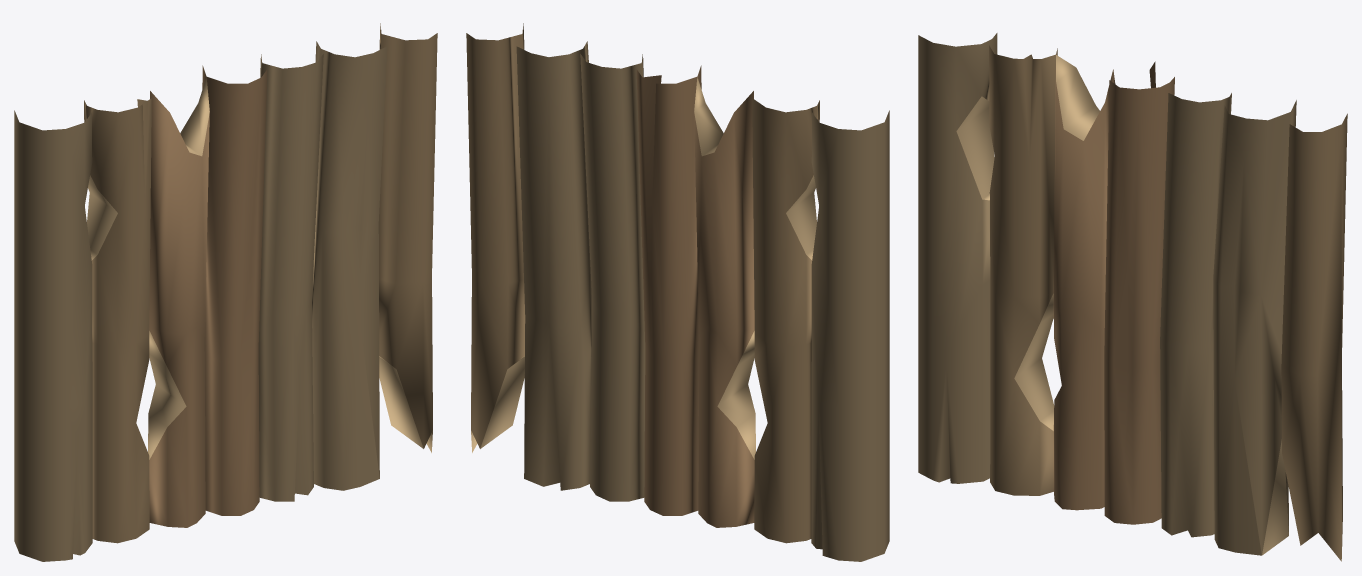
Rendered from rpgpp_av_wall_04_3x3_b.gltf.
The picture shows the model from 3 angles, left to right: view 1: azimuth 30°, elevation 25°; view 2: azimuth 150°, elevation 25°; view 3: azimuth 330°, elevation 25°; orthographic projection.
Parts seen in each view (by area): view 1: rpgpp_av_wall_04_3x3_b; view 2: rpgpp_av_wall_04_3x3_b; view 3: rpgpp_av_wall_04_3x3_b.
Boxes of the visible parts, left/top/right/bottom form: rpgpp_av_wall_04_3x3_b: left=14, top=23, right=437, bottom=561; rpgpp_av_wall_04_3x3_b: left=466, top=23, right=889, bottom=561; rpgpp_av_wall_04_3x3_b: left=918, top=33, right=1347, bottom=561.
Size of the model in its own units: 0.03 by 0.03 by 0.00471.
1 material, 1 textured.
